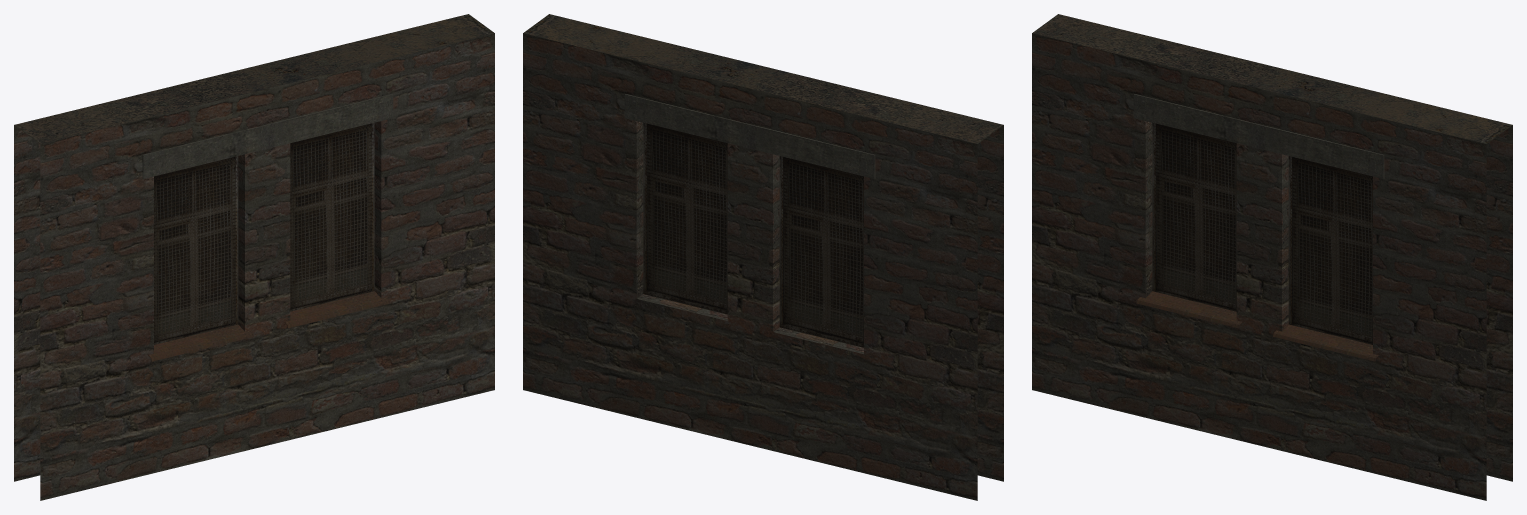
The model's file is windows_hr_2.obj.
3 views of the same model, side by side, from view 1: azimuth 30°, elevation 25°; view 2: azimuth 150°, elevation 25°; view 3: azimuth 330°, elevation 25° (orthographic).
Visible parts, largest first — view 1: windows_hr_2; view 2: windows_hr_2; view 3: windows_hr_2.
Boxes of the visible parts, x1,y1,x2,y2 form: windows_hr_2: [14, 14, 494, 500]; windows_hr_2: [523, 14, 1003, 500]; windows_hr_2: [1032, 14, 1512, 500].
Size of the model in its own units: 4 by 3 by 0.465.
